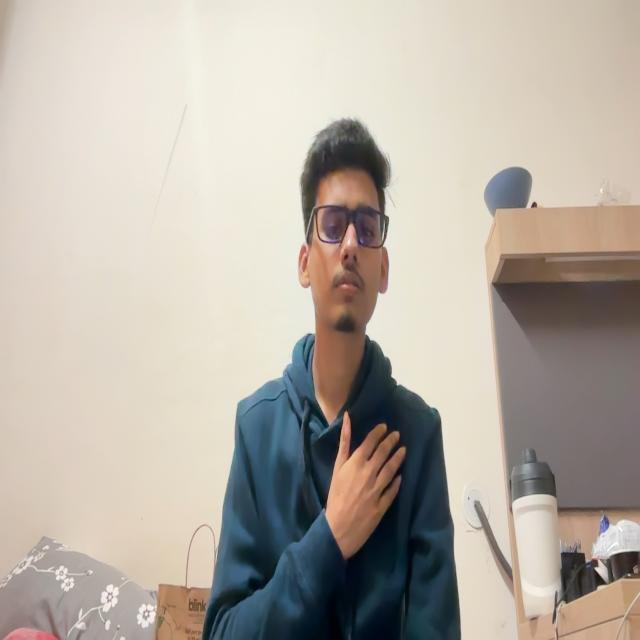Please: (318, 402, 421, 578)
